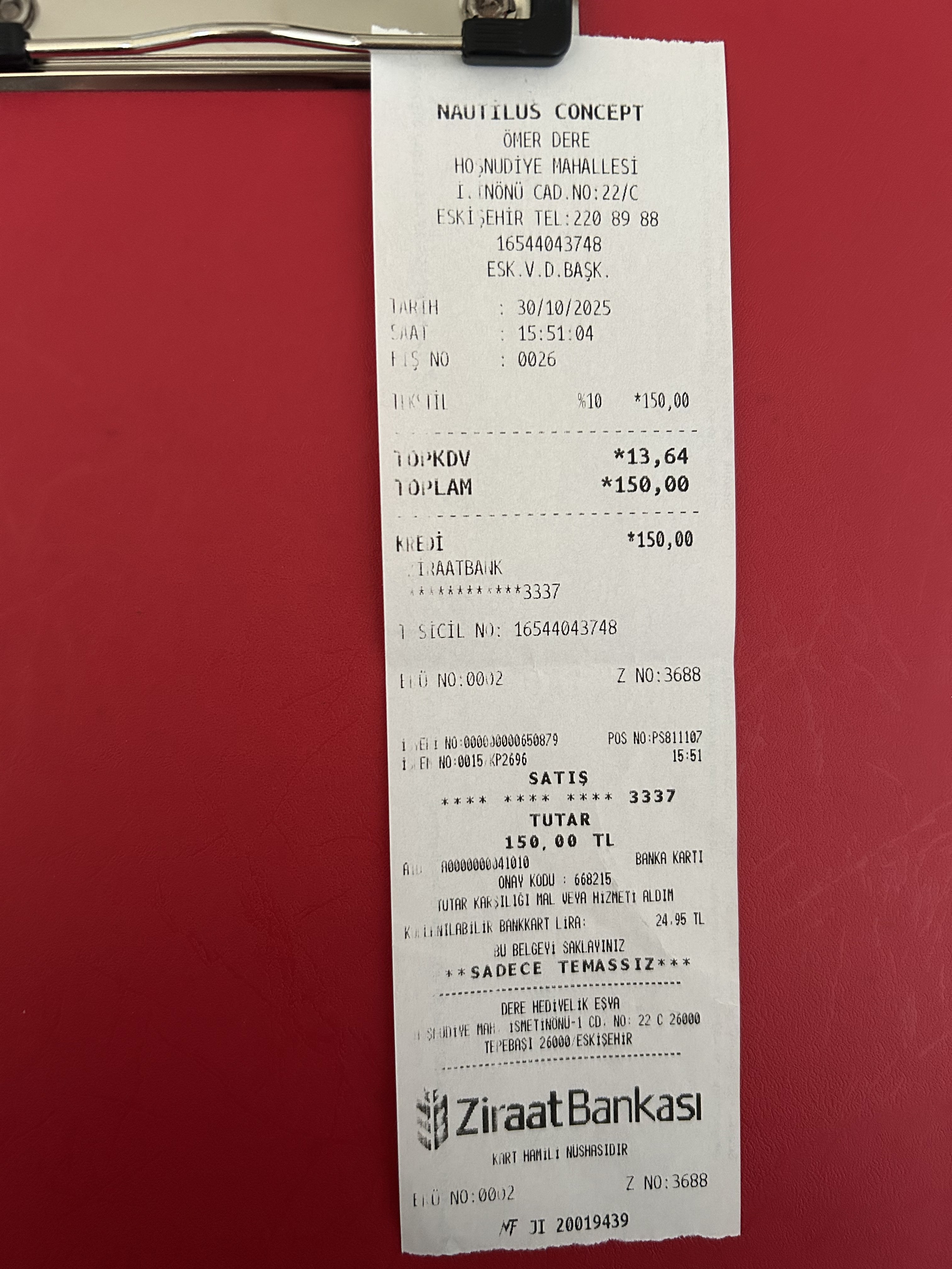date: (611, 471, 697, 502)
price: (511, 291, 618, 319)
workplace: (417, 92, 680, 230)
